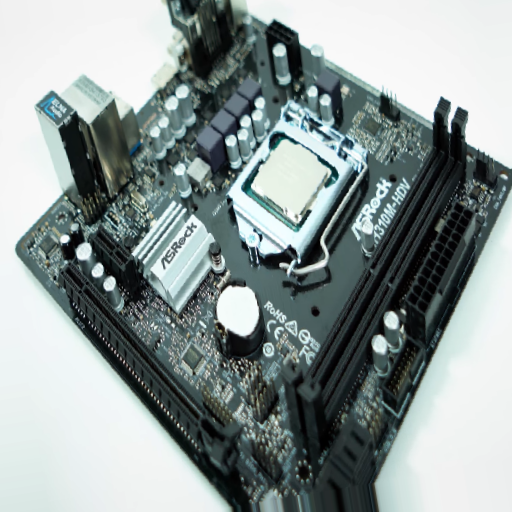CPU: (226, 101, 371, 264)
GPU: (56, 261, 244, 464)
MOTHERBOARD: (13, 2, 508, 509)
RAM: (284, 97, 472, 456)
